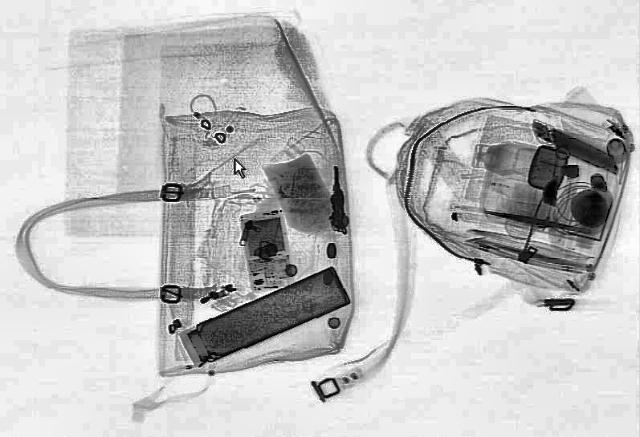Knife: (482, 208, 592, 234)
